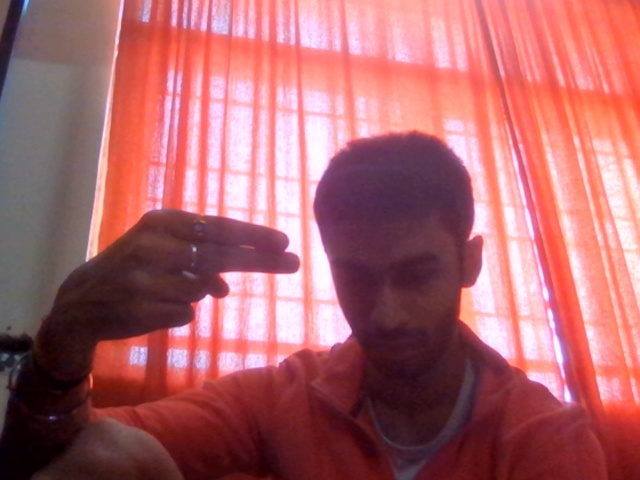H: (30, 186, 322, 367)
